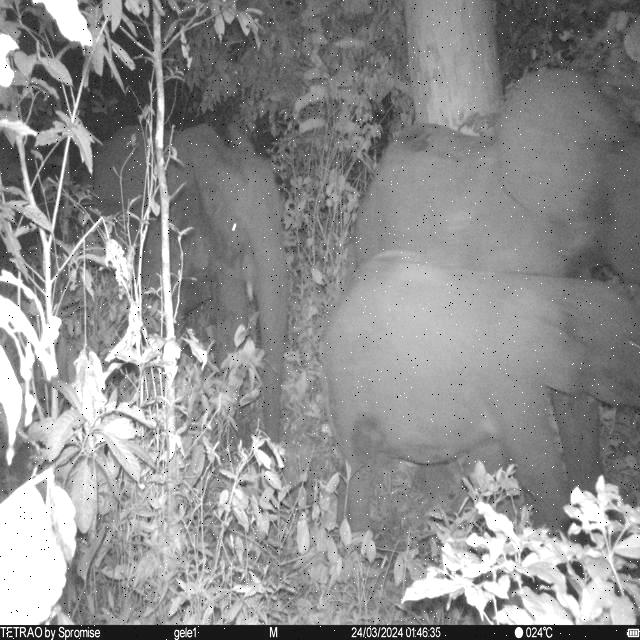calf: (319, 250, 640, 530)
ear: (496, 68, 630, 232), (224, 122, 259, 153)
elephant: (352, 70, 640, 293), (94, 119, 288, 450)
tusk: (245, 278, 258, 300)
